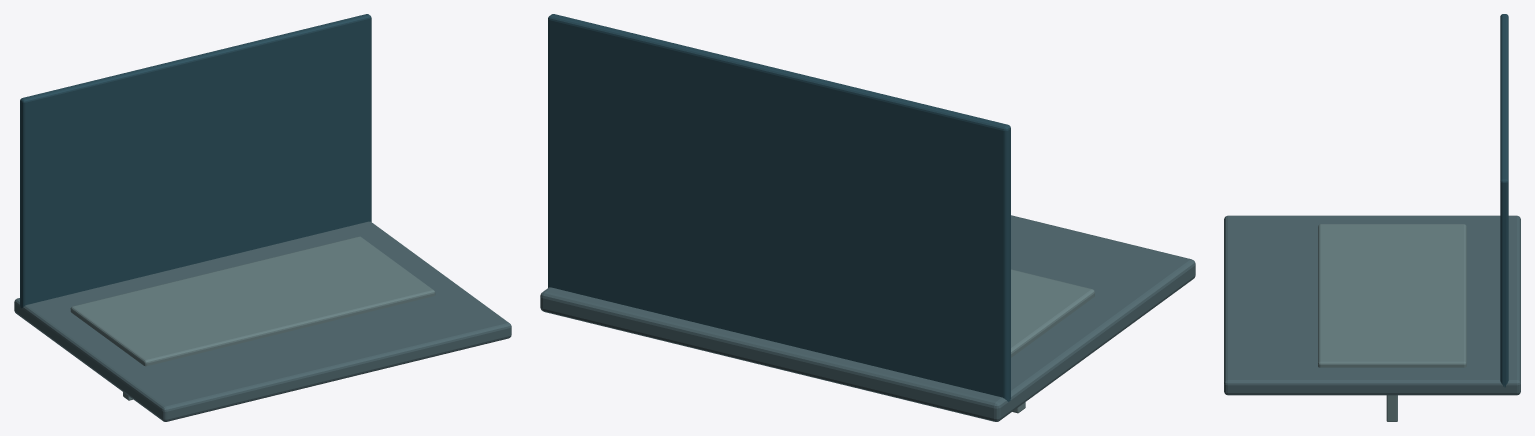
File: lab_environment.glb
3 views of the same model, side by side, from view 1: azimuth 30°, elevation 25°; view 2: azimuth 150°, elevation 25°; view 3: azimuth 270°, elevation 25° (orthographic). The views are drawn at different scales.
Parts seen in each view (by area): view 1: LAB_backdrop, LAB_floor, LAB_bench; view 2: LAB_backdrop, LAB_floor, LAB_bench; view 3: LAB_floor, LAB_bench, LAB_backdrop, LAB_bench_leg_R.
Part boxes in pixels (x1=…): LAB_backdrop: x1=20, y1=14, x2=371, y2=308; LAB_floor: x1=14, y1=221, x2=511, y2=421; LAB_bench: x1=70, y1=236, x2=435, y2=366; LAB_backdrop: x1=548, y1=14, x2=1010, y2=401; LAB_floor: x1=540, y1=215, x2=1195, y2=421; LAB_bench: x1=1011, y1=269, x2=1094, y2=357; LAB_floor: x1=1224, y1=215, x2=1520, y2=395; LAB_bench: x1=1318, y1=224, x2=1466, y2=367; LAB_backdrop: x1=1500, y1=14, x2=1508, y2=387; LAB_bench_leg_R: x1=1386, y1=395, x2=1397, y2=421.
Size of the model in its own units: 12 by 8.85 by 9.
